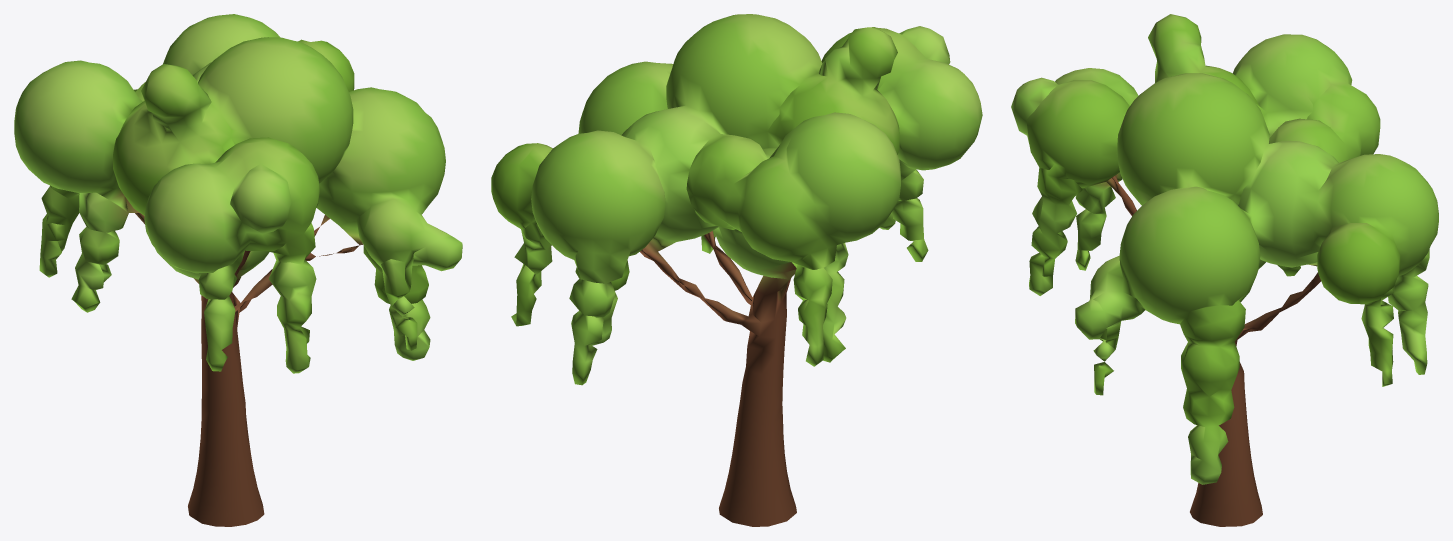
The model's file is weeping-tree-114-lod1.obj.
3 renders of one model, left to right at view 1: azimuth 30°, elevation 25°; view 2: azimuth 150°, elevation 25°; view 3: azimuth 270°, elevation 25°, orthographic. The views are drawn at different scales.
Parts seen in each view (by area): view 1: simplified; view 2: simplified; view 3: simplified.
Part boxes in pixels (<box>): simplified: <box>14,14,462,526</box>; simplified: <box>491,14,982,526</box>; simplified: <box>1011,14,1438,526</box>.
Bounding box in the file's own units: 294 × 375 × 318.
